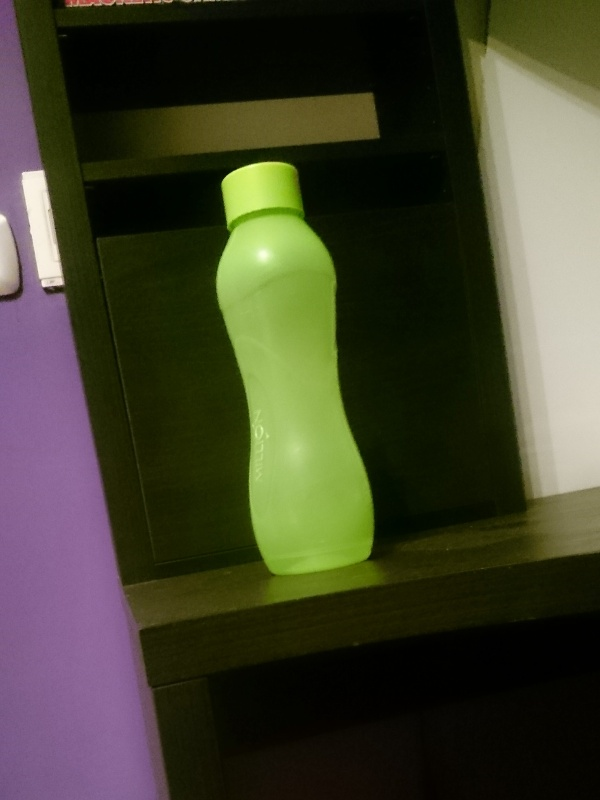my bottle: (212, 162, 375, 581)
